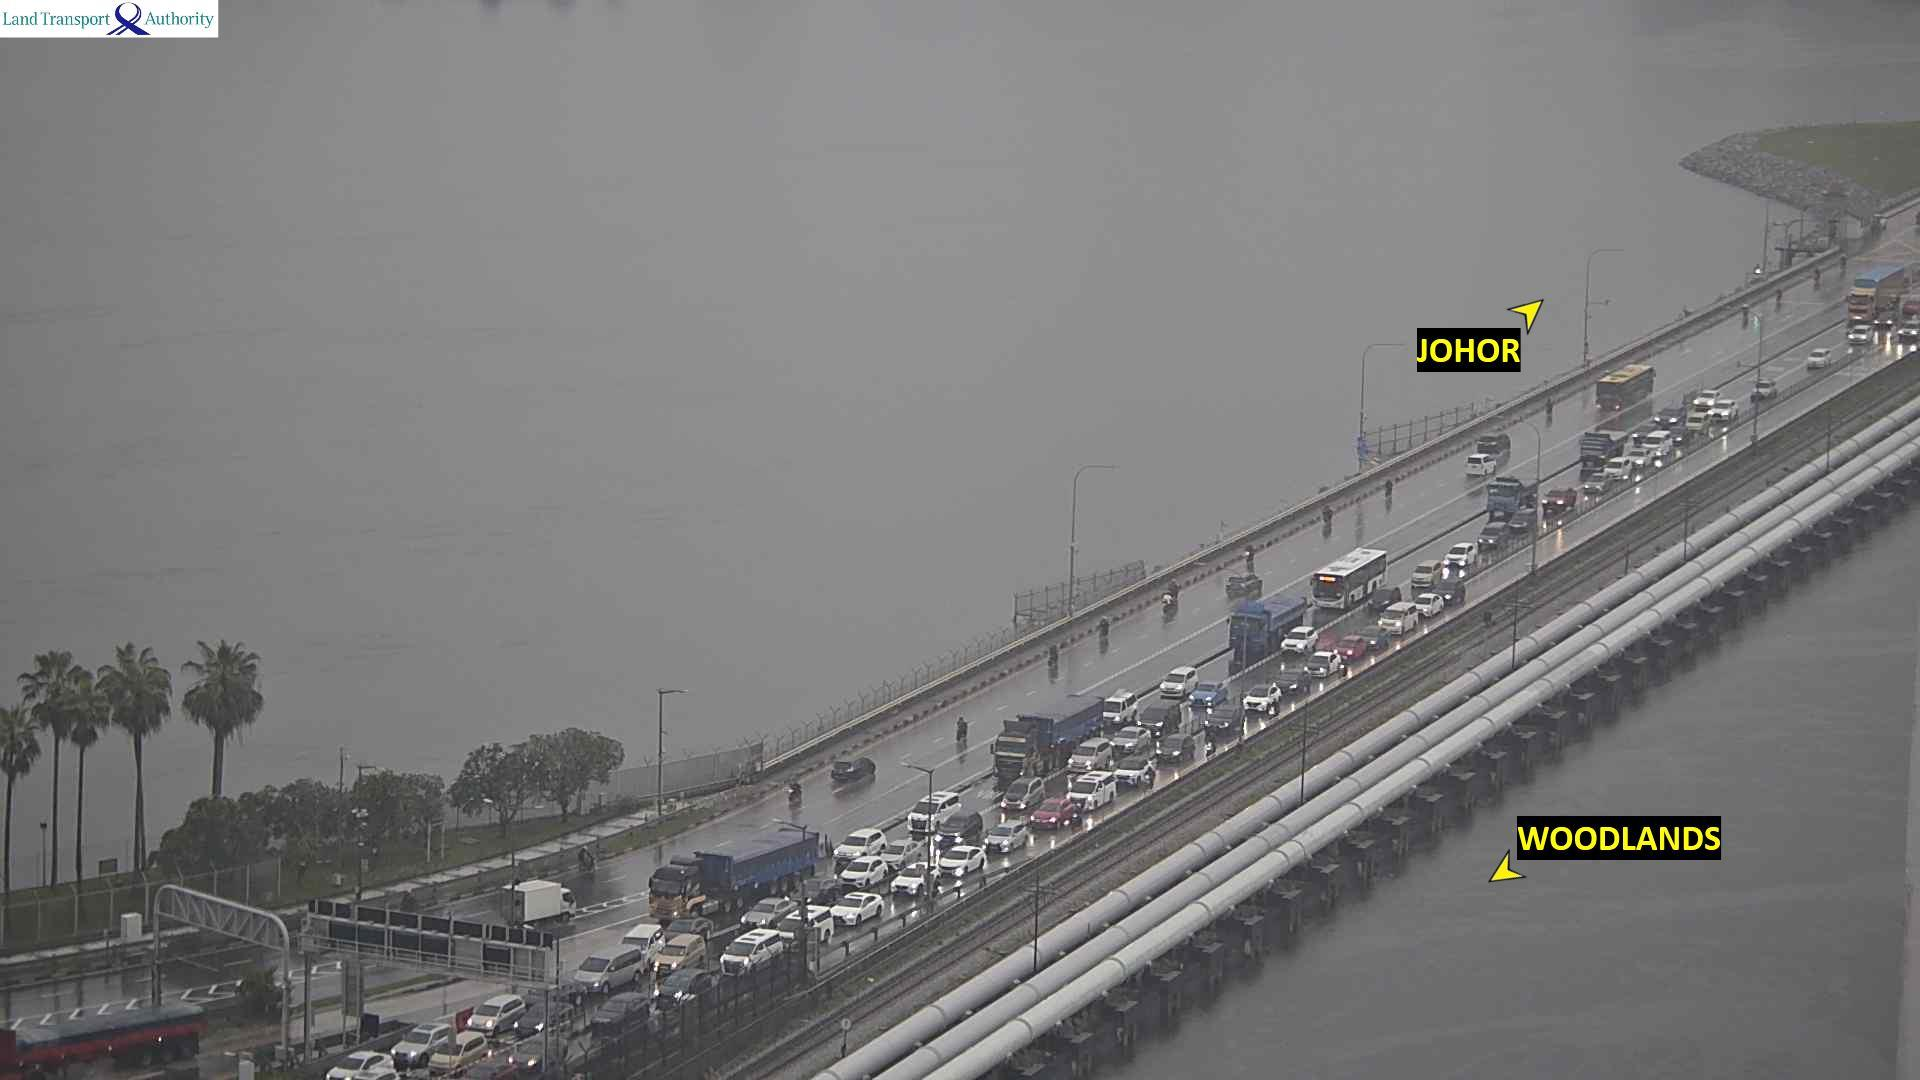vehicle-causeway-johor: (501, 880, 576, 923), (1596, 367, 1656, 409), (833, 757, 876, 779), (1225, 574, 1266, 595), (1160, 580, 1180, 613), (1478, 434, 1511, 454), (1466, 455, 1495, 476), (579, 845, 595, 870), (1321, 504, 1335, 526), (787, 781, 802, 799), (957, 717, 968, 738), (1048, 644, 1059, 663), (1098, 617, 1108, 636), (1774, 287, 1783, 305), (1741, 303, 1749, 323), (1244, 549, 1253, 564), (1385, 480, 1393, 496), (1545, 398, 1553, 413), (1840, 256, 1847, 270), (1812, 268, 1820, 281)
vehicle-causeway-singapore: (0, 1013, 203, 1080), (662, 829, 823, 905), (1000, 692, 1116, 752), (1311, 549, 1393, 589), (1846, 266, 1905, 322), (1232, 597, 1311, 638), (717, 932, 787, 971), (426, 1038, 489, 1075), (578, 948, 650, 980), (591, 994, 649, 1034), (394, 1022, 450, 1063), (655, 969, 709, 1010), (568, 963, 642, 992), (467, 998, 531, 1031), (512, 1033, 568, 1069), (1486, 475, 1544, 510), (893, 862, 976, 886), (928, 814, 988, 847), (328, 1051, 392, 1080), (742, 897, 808, 924), (661, 936, 708, 973), (831, 891, 886, 920), (1065, 773, 1114, 804), (835, 829, 884, 861), (1029, 807, 1092, 829), (624, 926, 661, 964), (1582, 430, 1627, 460), (911, 793, 965, 816), (989, 824, 1035, 852), (1200, 707, 1244, 735), (843, 857, 885, 885), (1004, 778, 1042, 808), (663, 919, 715, 942), (1102, 690, 1135, 723), (1381, 604, 1416, 634), (1241, 684, 1280, 711), (1187, 680, 1225, 705), (1279, 633, 1321, 655), (882, 840, 922, 864), (942, 840, 988, 860), (1162, 667, 1195, 695), (1155, 738, 1193, 762), (1143, 704, 1179, 729), (1113, 770, 1156, 789), (1480, 522, 1509, 549), (1110, 729, 1151, 748), (1411, 562, 1440, 587), (1305, 653, 1338, 674), (1543, 487, 1576, 508), (1443, 545, 1473, 567), (1280, 667, 1308, 690), (1370, 588, 1399, 609), (1414, 593, 1444, 613), (1655, 404, 1685, 423), (1511, 508, 1536, 531), (1362, 625, 1386, 649), (1805, 347, 1832, 368), (1710, 400, 1737, 421), (1440, 582, 1462, 604), (1336, 638, 1365, 655), (1606, 459, 1631, 477), (1753, 377, 1776, 396), (1693, 389, 1718, 406), (1850, 326, 1873, 344), (1644, 434, 1668, 451), (1585, 475, 1609, 492), (1900, 320, 1920, 340), (1629, 450, 1650, 465), (1689, 418, 1710, 431)
